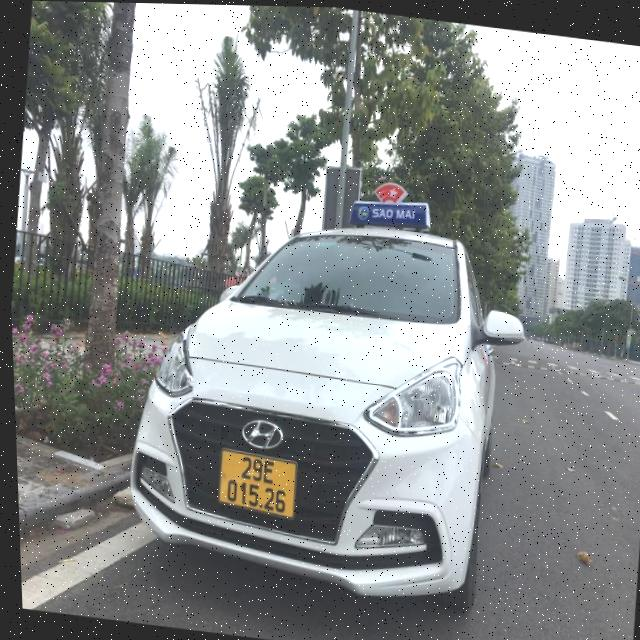car: (108, 179, 548, 626)
plate: (208, 442, 307, 521)
